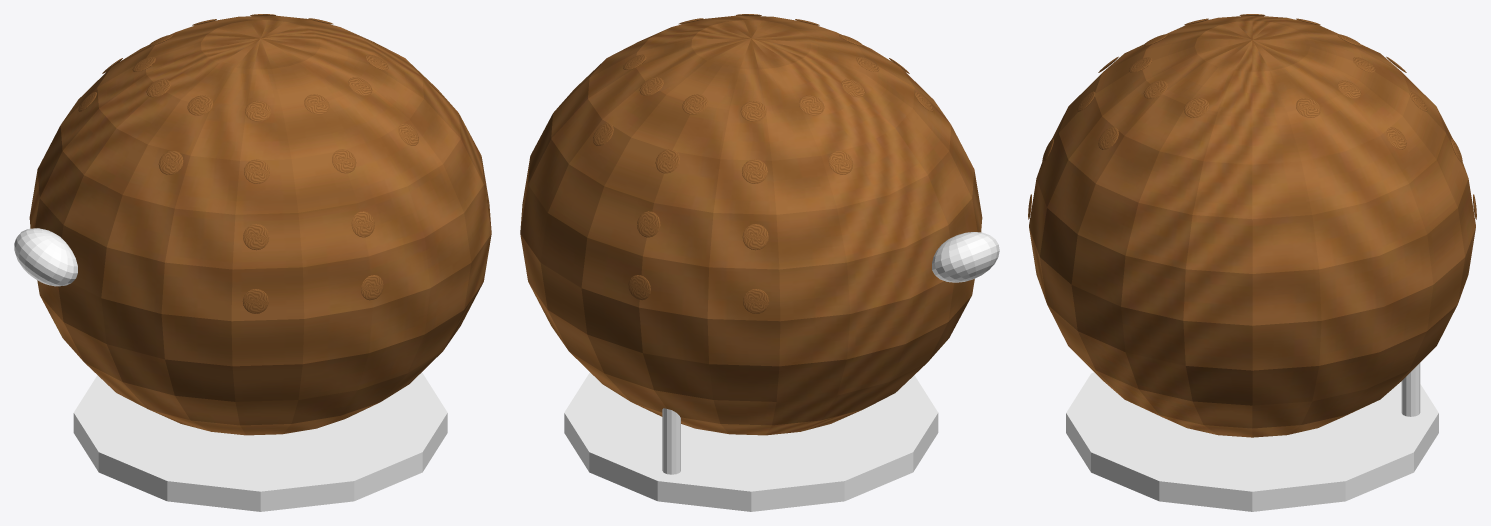
Rendered from poc_muyu_v3.glb.
The picture shows the model from 3 angles, left to right: view 1: azimuth 30°, elevation 25°; view 2: azimuth 150°, elevation 25°; view 3: azimuth 270°, elevation 25°; orthographic projection.
Parts seen in each view (by area): view 1: Muyu_Body, Base, Tail, Scale_3_8; view 2: Muyu_Body, Base, Tail, Mallet_Handle, Scale_3_4; view 3: Muyu_Body, Base, Mallet_Handle.
Part boxes in pixels (x1,y1,x2,y2): Muyu_Body: (29,15,491,435); Base: (73,372,447,511); Tail: (14,228,77,286); Scale_3_8: (243,224,269,250); Muyu_Body: (520,15,982,435); Base: (564,372,938,511); Tail: (932,232,999,282); Mallet_Handle: (662,408,680,474); Scale_3_4: (742,224,768,250); Muyu_Body: (1029,16,1475,437); Base: (1066,372,1438,511); Mallet_Handle: (1401,363,1420,416).
Bounding box in the file's own units: 1.37 × 1.16 × 1.2.
Materials: 6 (2 with a texture image).
